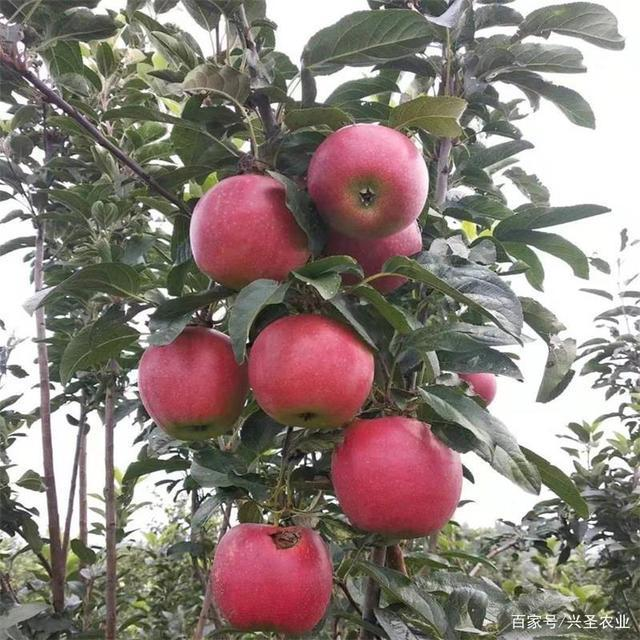apple: (304, 121, 428, 250), (332, 417, 462, 540), (188, 171, 316, 289), (244, 313, 372, 429), (211, 522, 332, 633), (136, 320, 246, 440)
